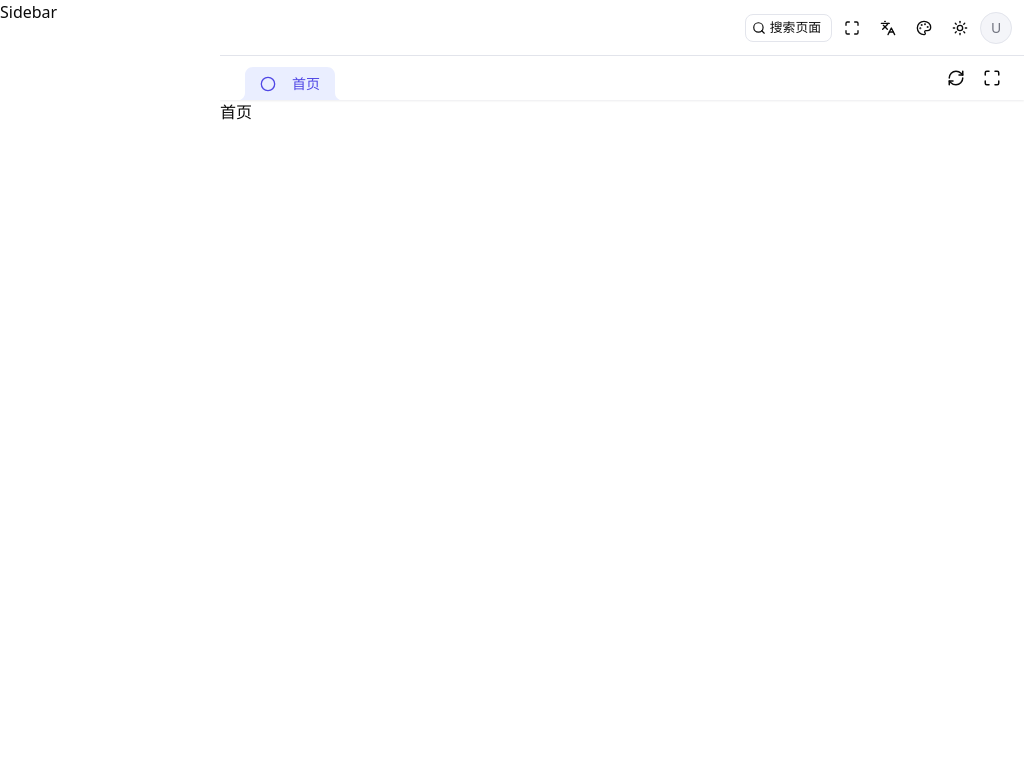
Test case: searching an authorized multi-tab route then switching language synchronizes the shell
The image size is (1024, 768).
Click the button "搜索页面": (788, 28) [745,14,832,42]
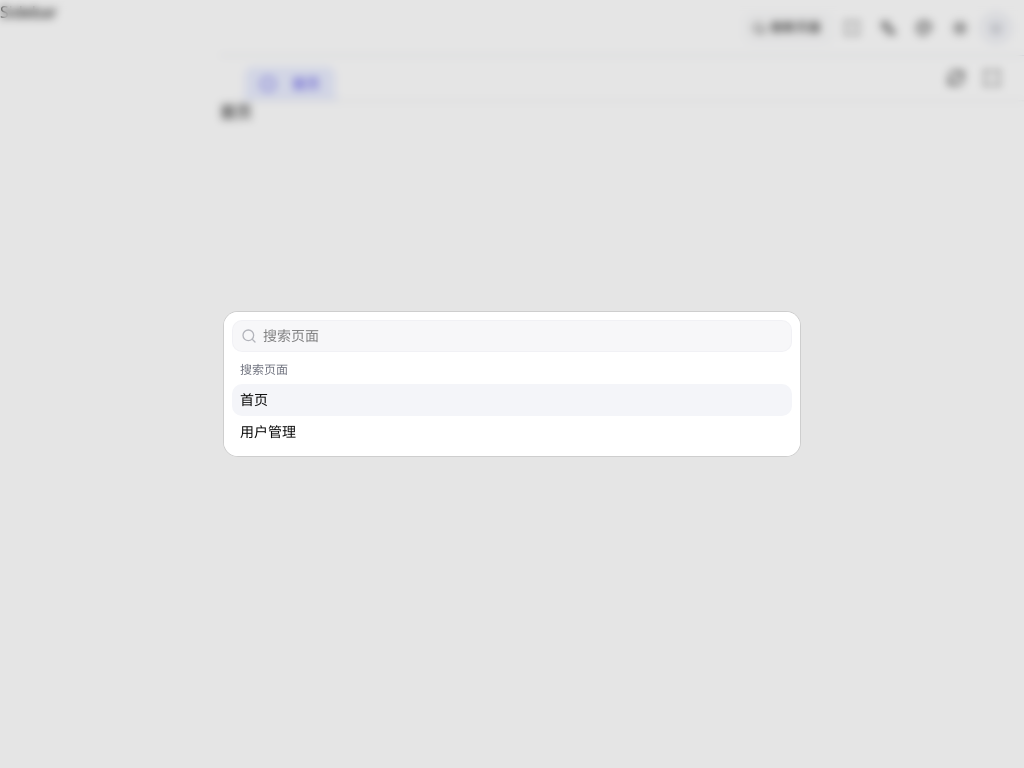
Click the option "用户管理": (268, 432) [240,422,296,441]
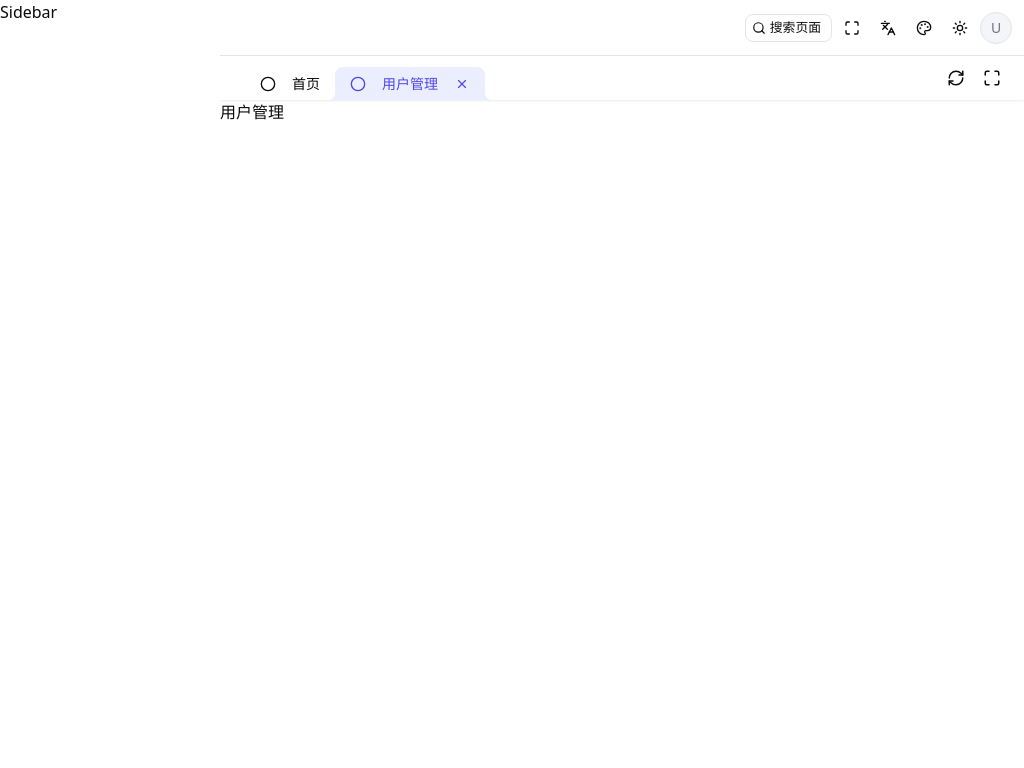
Now the text "用户管理" next to "首页" is shown, box [382,74,438,93]
Click the button named "切换语言": (888, 28) [872,12,904,44]
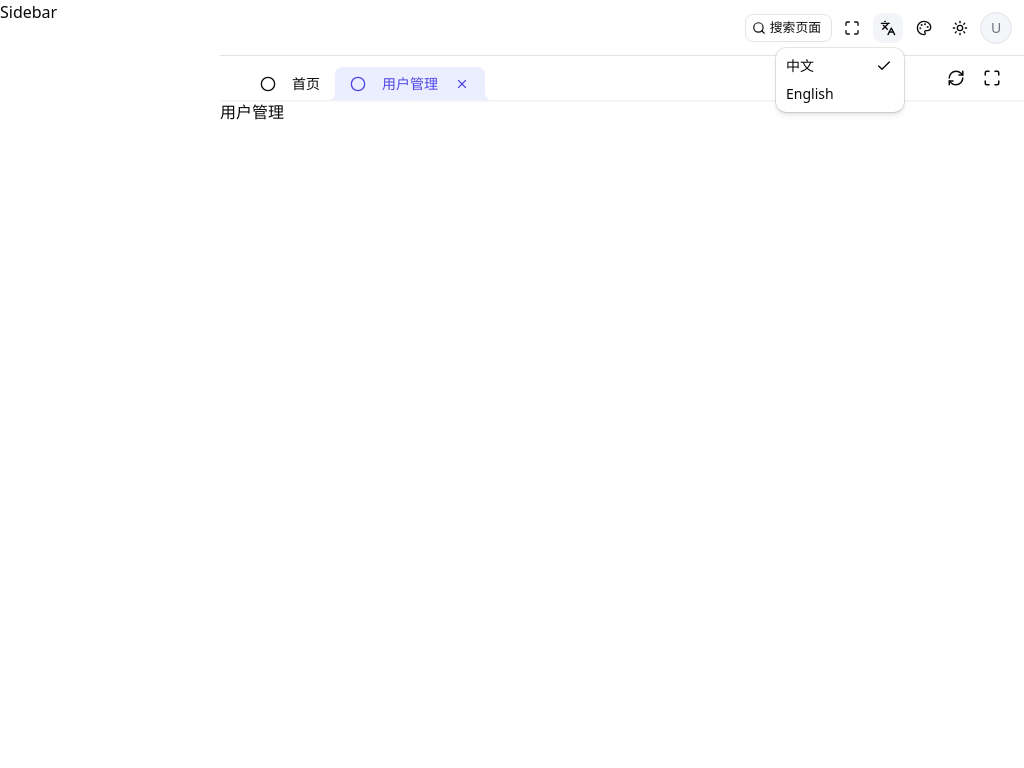
Click the menu item "English": (810, 94) [786,84,834,103]
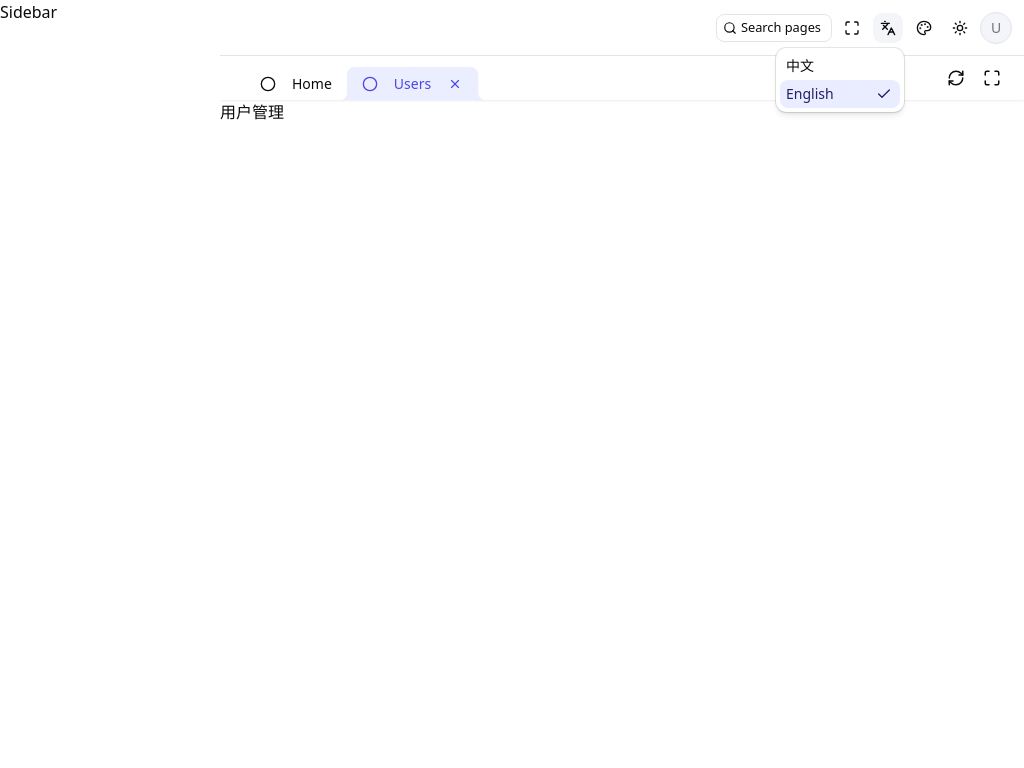
Now the button "Search pages" is shown, box [716,14,832,42]
Now the text "Users" is shown, box [394,73,431,94]
